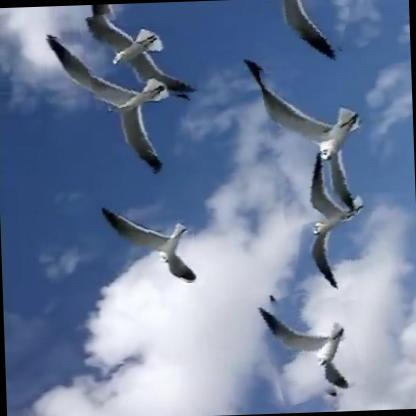bird: (46, 30, 192, 177), (264, 56, 373, 223), (295, 149, 379, 300), (80, 1, 199, 107), (261, 285, 361, 403), (102, 198, 196, 287), (255, 0, 348, 64)
